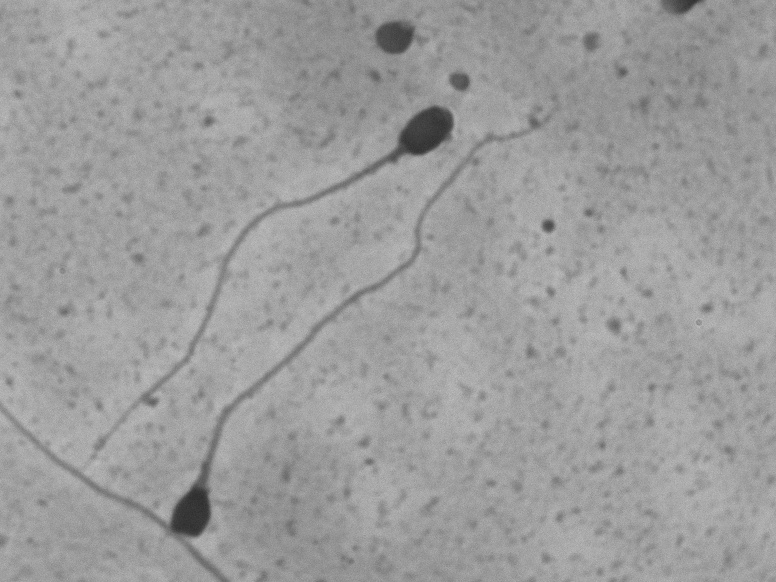Normal: (135, 100, 566, 540), (71, 91, 470, 478)
